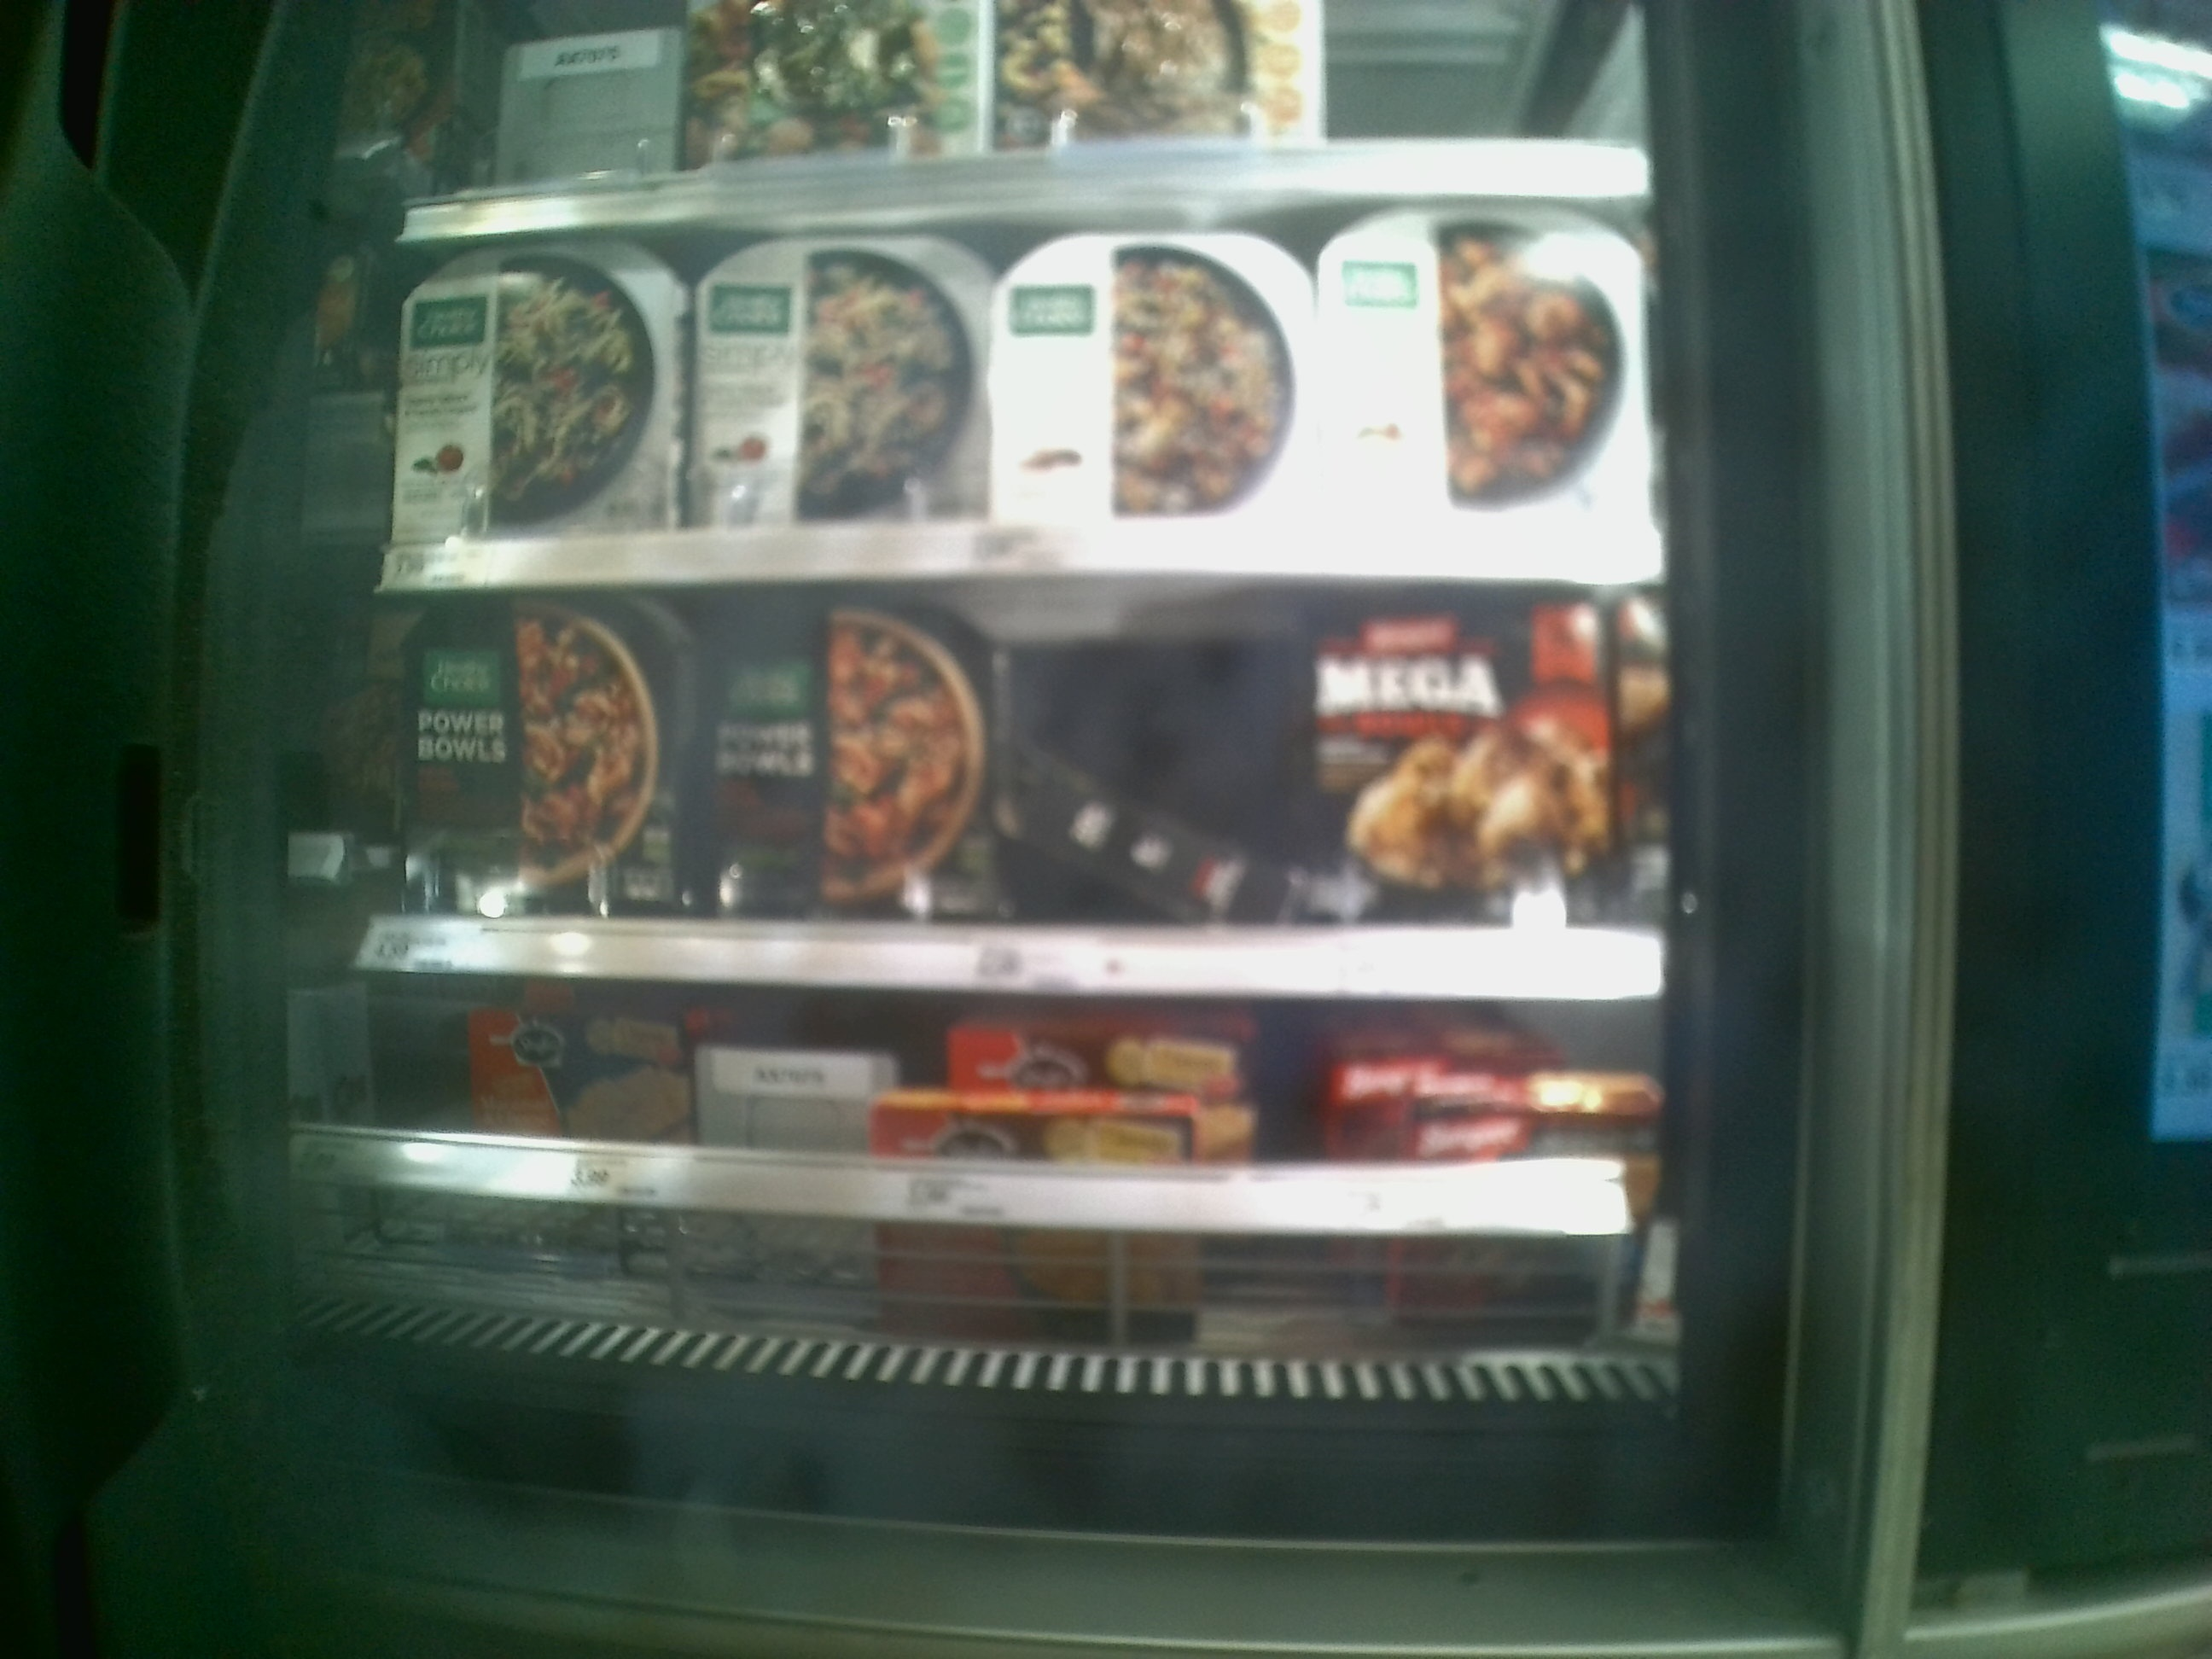shelf: (354, 979, 1679, 1427), (374, 587, 1672, 1002), (376, 186, 1676, 587)
